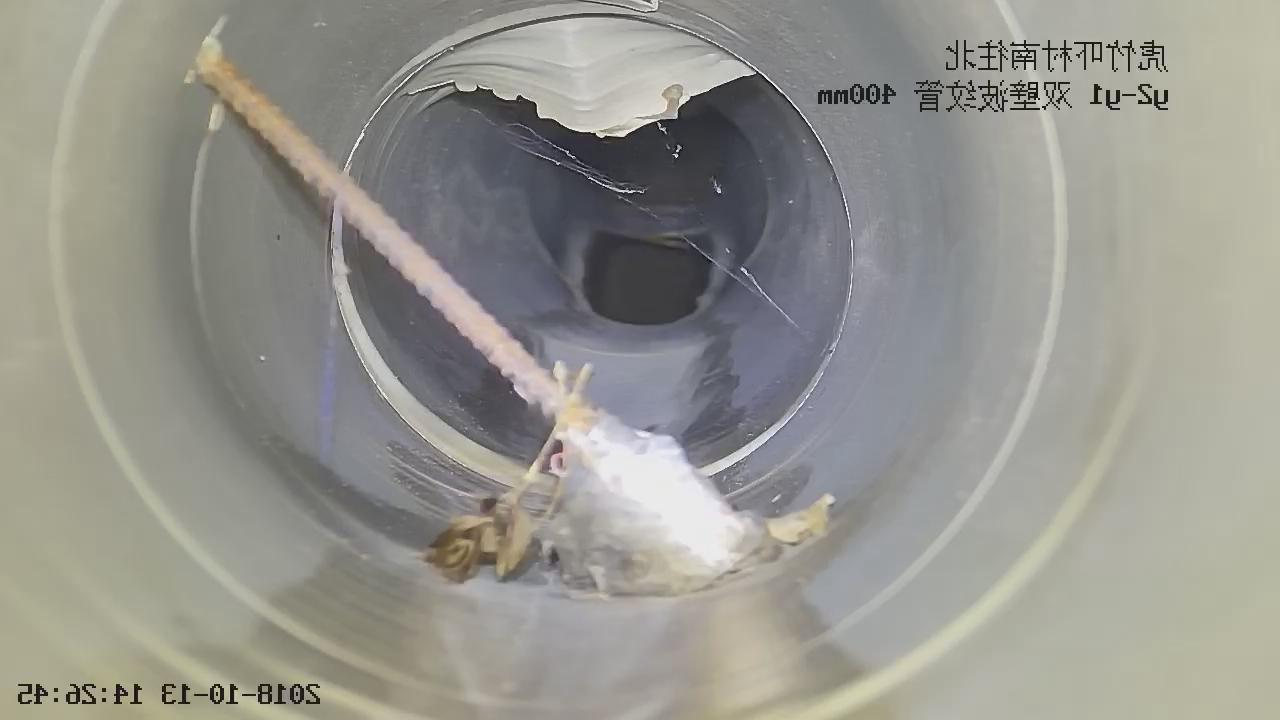BX: (401, 11, 755, 137)
